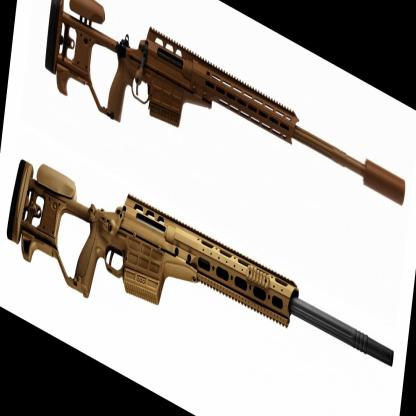rifle: (4, 124, 379, 416), (34, 0, 410, 282)
